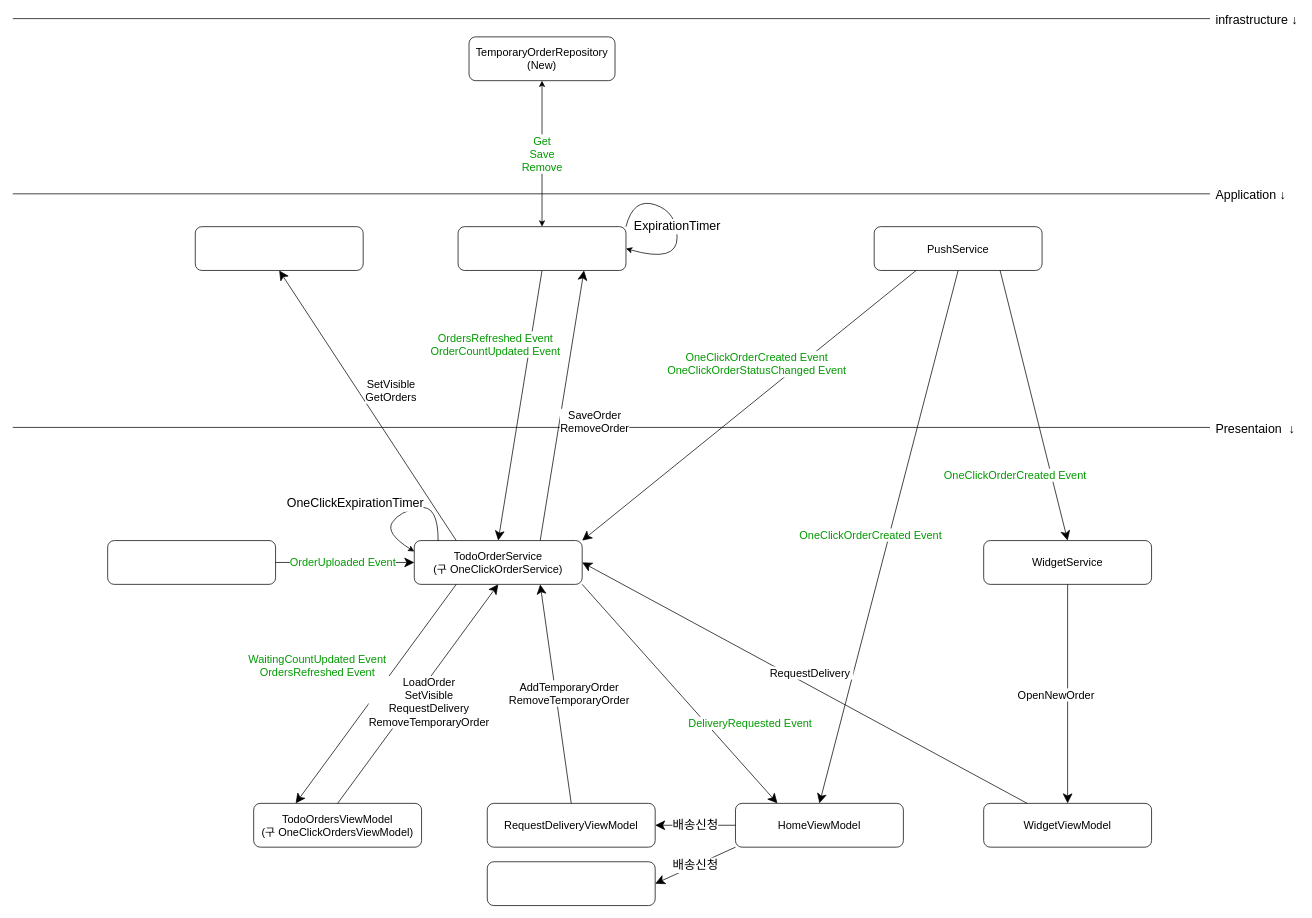
This 1312x918 diagram has some shape labels left out. Each missing label, with the centre of its shape:
DialogRequestDeliveryViewModel: point (571, 883)
OneClickService: point (279, 248)
OneClickUploadService: point (191, 562)
TemporarySaveService (New): point (541, 248)
